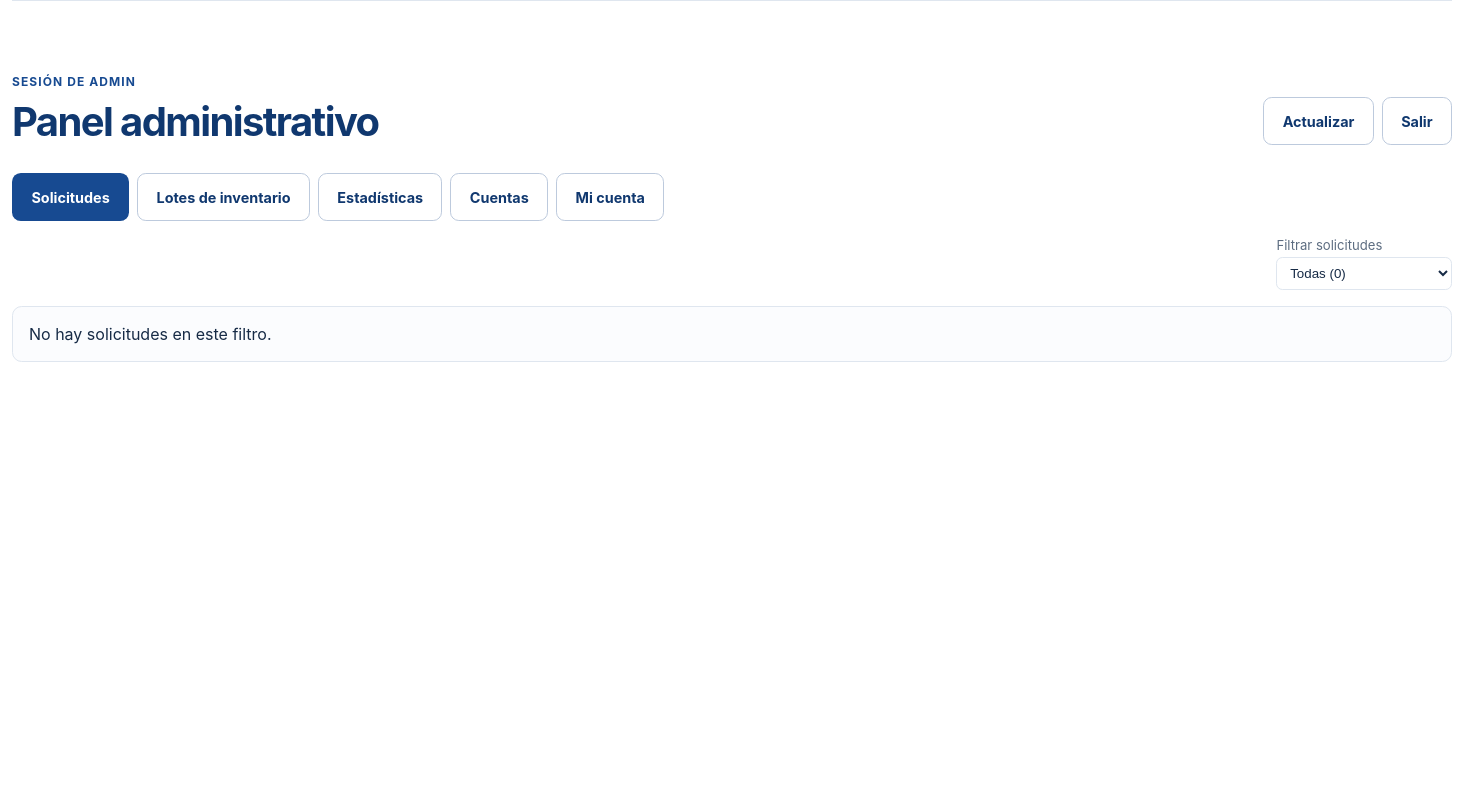
Test: panel administrativo › abre la gestión de cuentas y protege la sesión propia
The width and height of the screenshot is (1464, 810).
Click the tab "Cuentas": (499,197) [450,173,548,221]
(page scrolled)
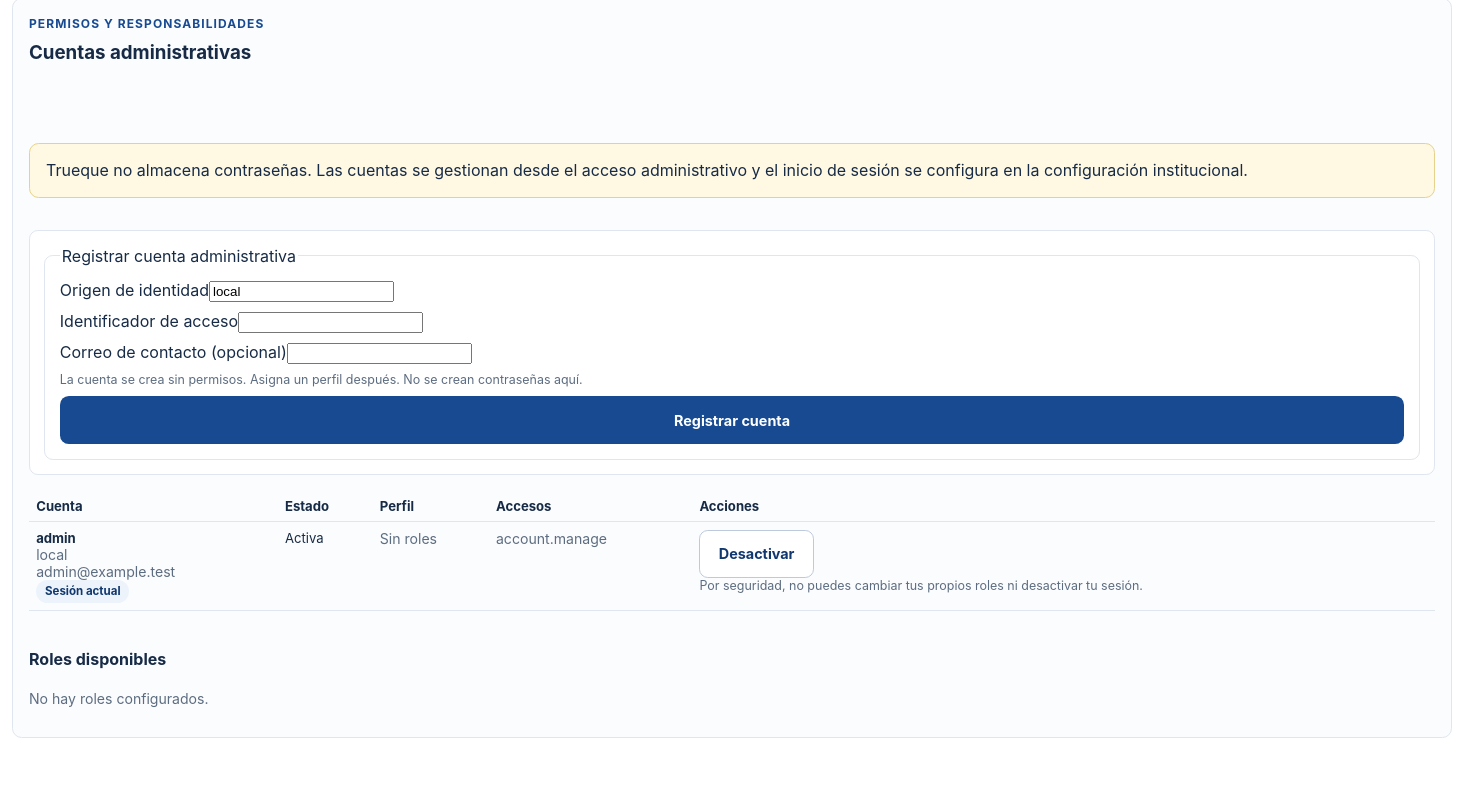
Check: the heading "Cuentas administrativas" is shown, box [29,41,264,64]
Check: the text "Sesión actual" is shown, box [36,580,129,603]
Check: the text "no puedes cambiar tus propios roles" is shown, box [699,578,1143,593]
